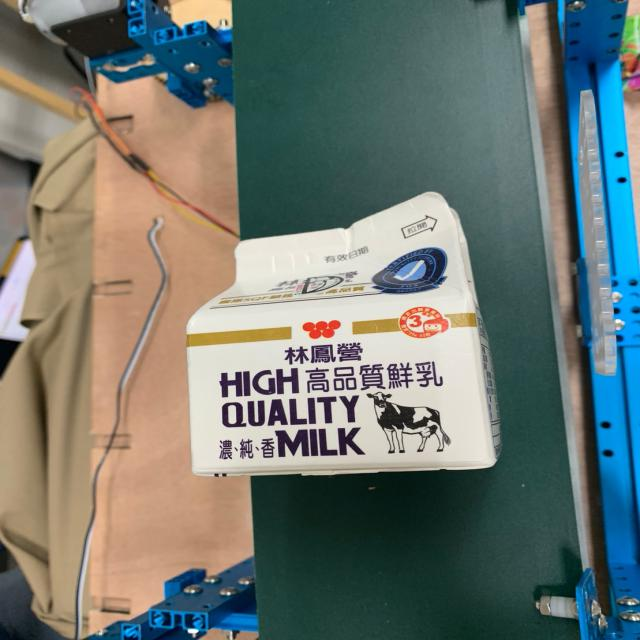non_white_jug: (162, 192, 514, 497)
